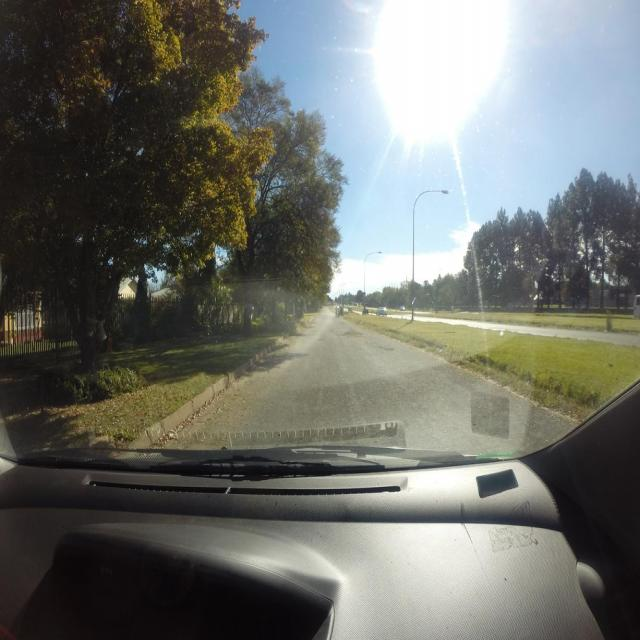Pothole: (336, 330, 362, 338), (314, 338, 324, 342), (385, 349, 394, 352)
